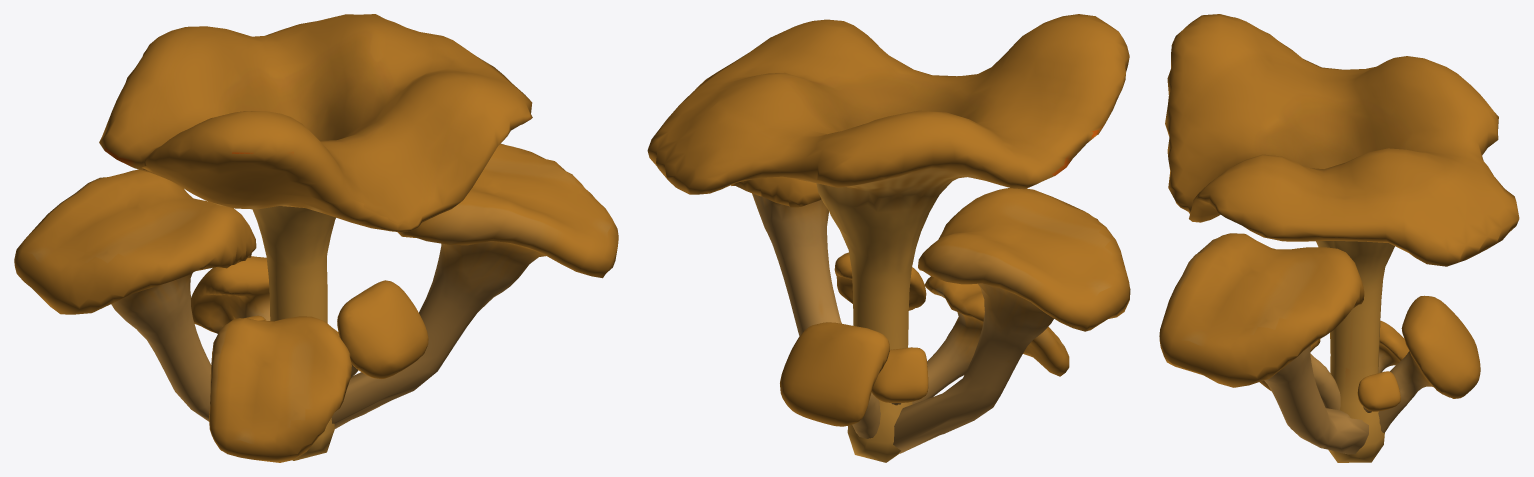
Rendered from Chantarelle.fbx.
3 renders of one model, left to right at view 1: azimuth 30°, elevation 25°; view 2: azimuth 150°, elevation 25°; view 3: azimuth 270°, elevation 25°, orthographic. The views are drawn at different scales.
Visible parts, largest first — view 1: Plane, Cylinder, Cylinder.002, Cylinder.001, Cube.002, Cube; view 2: Plane, Cylinder, Cube, Cylinder.002, Cylinder.001, Cube.001, Cube.002; view 3: Plane, Cylinder.002, Cube, Cube.003, Cube.001, Cube.002.
Boxes of the visible parts, left/top/right/bottom form: Plane: left=99, top=14, right=532, bottom=460; Cylinder: left=14, top=169, right=256, bottom=421; Cylinder.002: left=331, top=143, right=618, bottom=428; Cylinder.001: left=209, top=316, right=351, bottom=462; Cube.002: left=337, top=280, right=428, bottom=378; Cube: left=191, top=256, right=270, bottom=333; Plane: left=647, top=14, right=1129, bottom=462; Cylinder: left=893, top=188, right=1130, bottom=453; Cube: left=780, top=322, right=889, bottom=438; Cylinder.002: left=731, top=176, right=841, bottom=336; Cylinder.001: left=912, top=276, right=1069, bottom=404; Cube.001: left=871, top=347, right=928, bottom=405; Cube.002: left=834, top=252, right=926, bottom=310; Plane: left=1165, top=14, right=1519, bottom=462; Cylinder.002: left=1159, top=233, right=1368, bottom=454; Cube: left=1378, top=295, right=1480, bottom=432; Cube.003: left=1357, top=371, right=1400, bottom=412; Cube.001: left=1378, top=320, right=1409, bottom=372; Cube.002: left=1259, top=339, right=1340, bottom=410.
Bounding box in the file's own units: 4.04 × 2.84 × 3.28.
3 materials, 3 textured.
